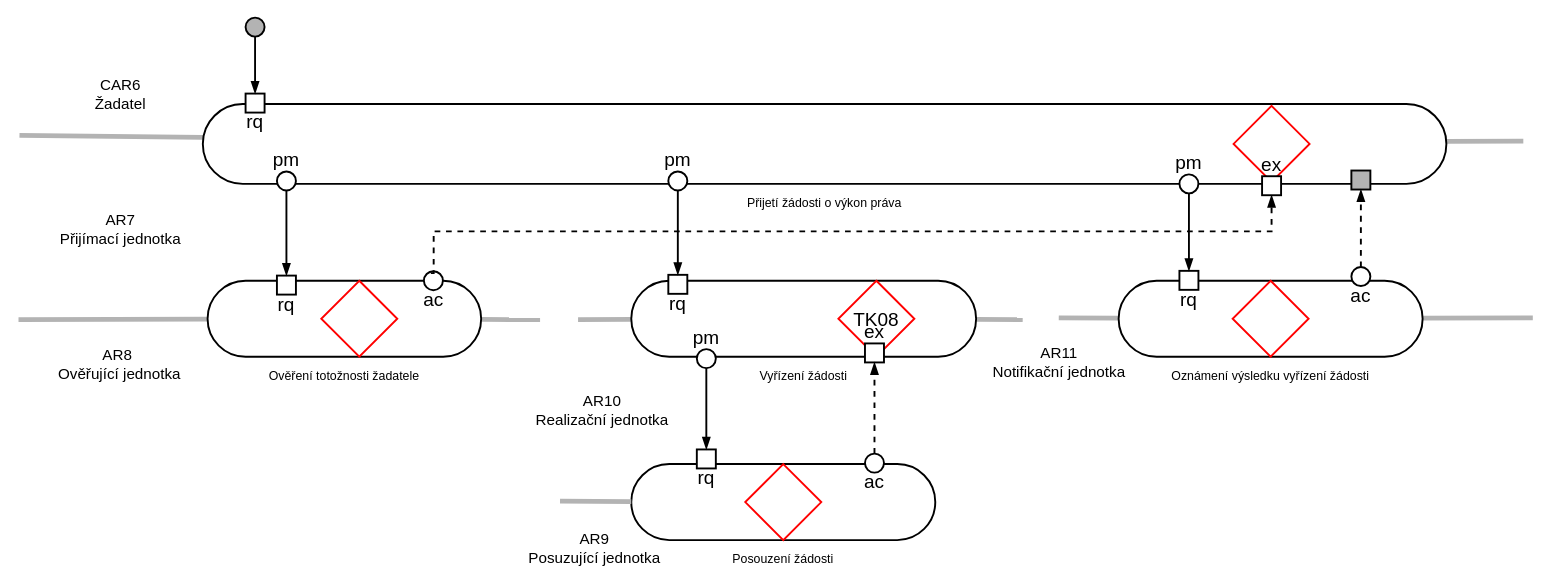
The diagram is 1551 pixels wide and 588 high, and some of its shapes have lost their labels. The centre of each missing label's shape, as x and y in pixels:
"TK05" belongs at pixel 1271 143.
"TK06" belongs at pixel 359 318.
"TK07" belongs at pixel 783 502.
"TK09" belongs at pixel 1270 318.
